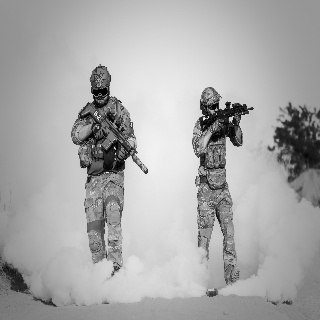rifle: (77, 102, 150, 176), (200, 100, 255, 139)
